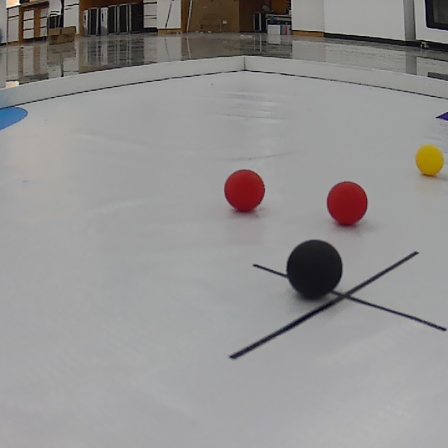black: (282, 236, 344, 300)
blue_base: (0, 101, 33, 132)
red: (323, 178, 379, 222), (224, 168, 273, 215)
yellow: (414, 142, 445, 176)
